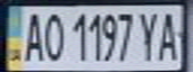1: (66, 9, 87, 61), (84, 9, 103, 61)
7: (115, 9, 136, 62)
9: (100, 9, 121, 62)
A: (154, 8, 184, 62), (18, 8, 45, 63)
O: (39, 9, 66, 62)
Y: (136, 8, 163, 62)
